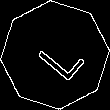L_NW: (26, 27, 84, 83)
